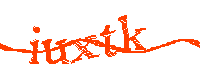i: (28, 25, 41, 65)
k: (117, 13, 147, 53)
t: (100, 23, 118, 59)
u: (41, 38, 70, 67)
x: (71, 34, 100, 63)
